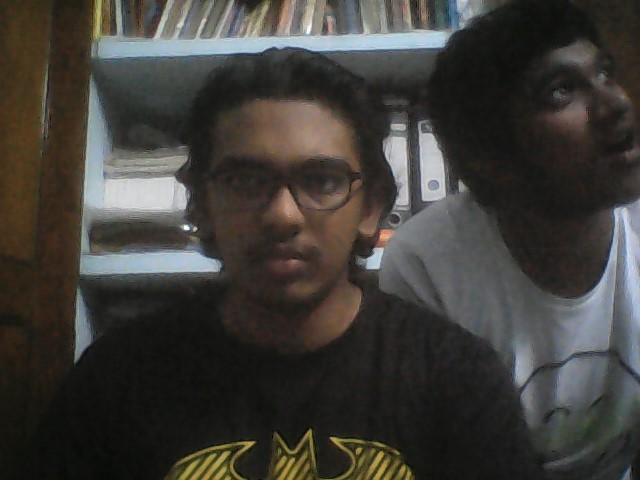person: (36, 48, 498, 479), (388, 3, 639, 302)
